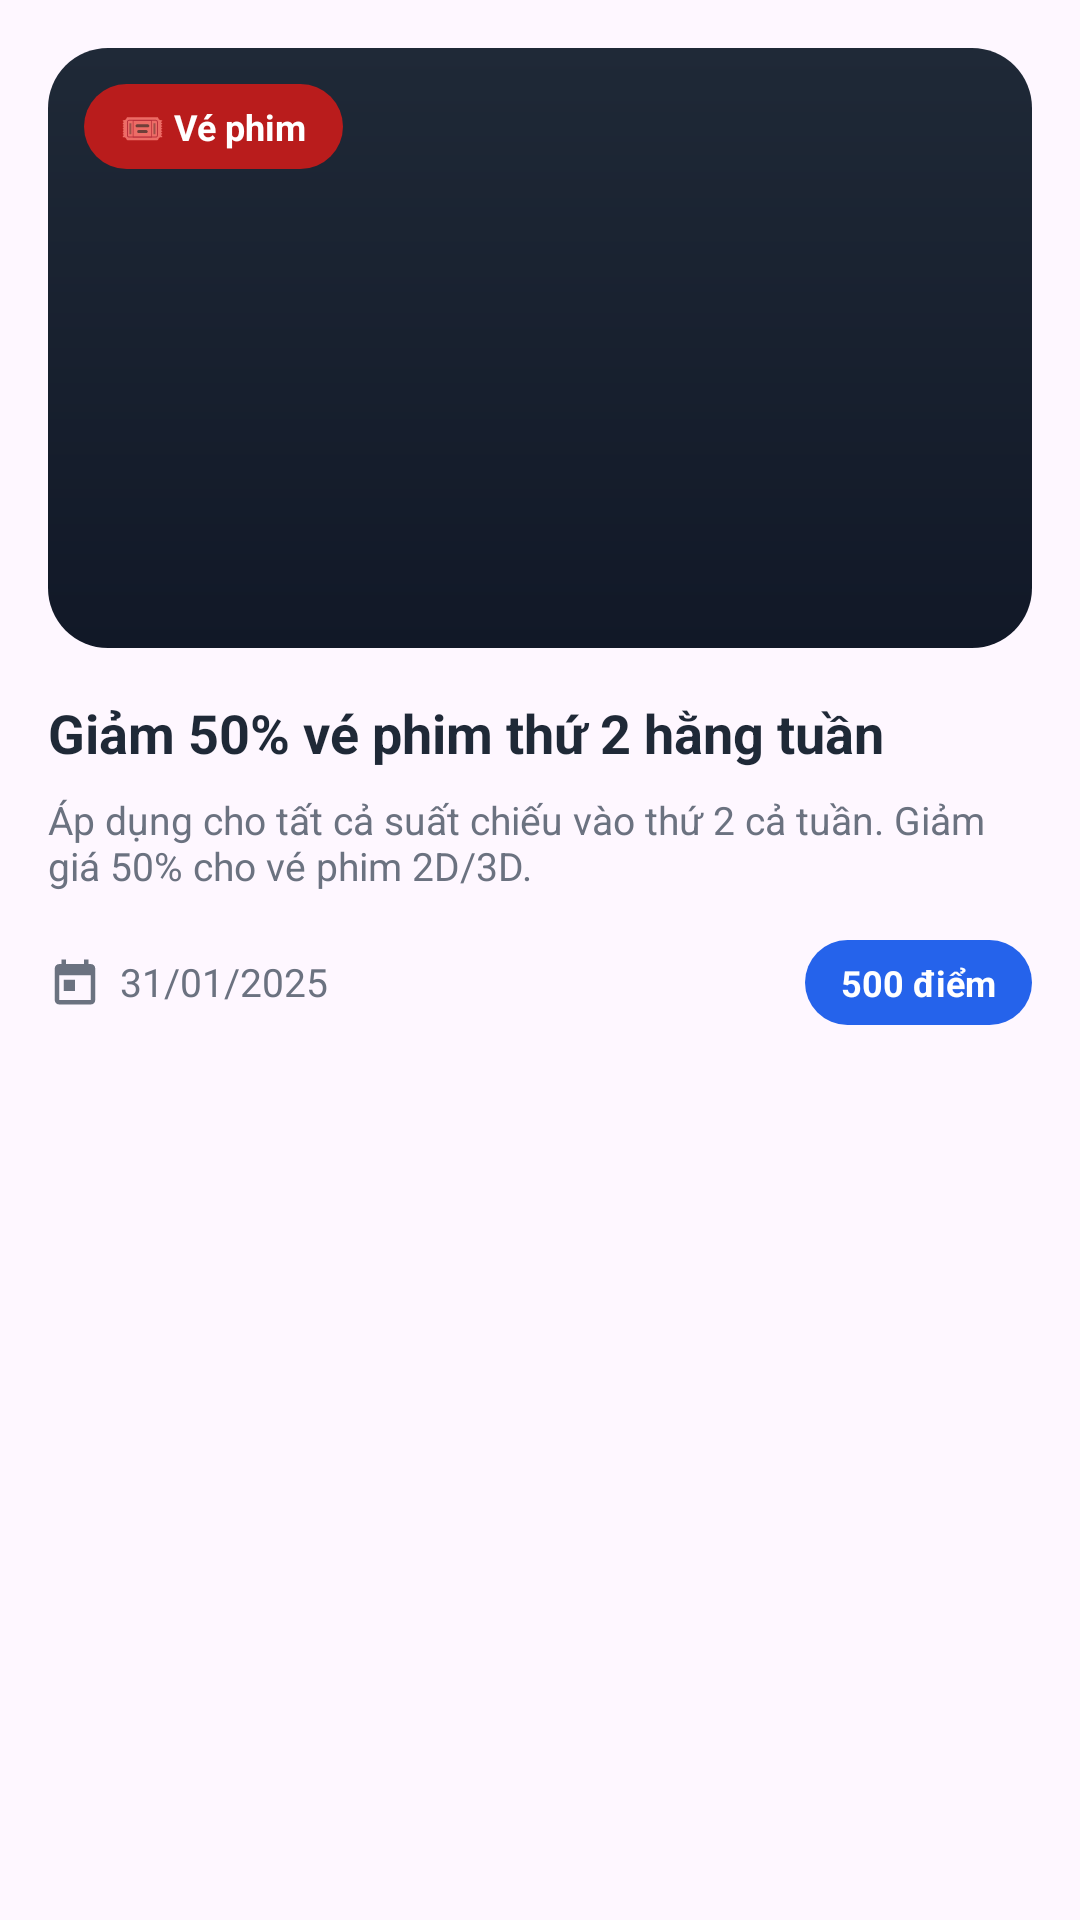

Where to tap for icons on this 1080w x 1920h app screen, as (x=x, y=y):
calendar: (x=75, y=982)
